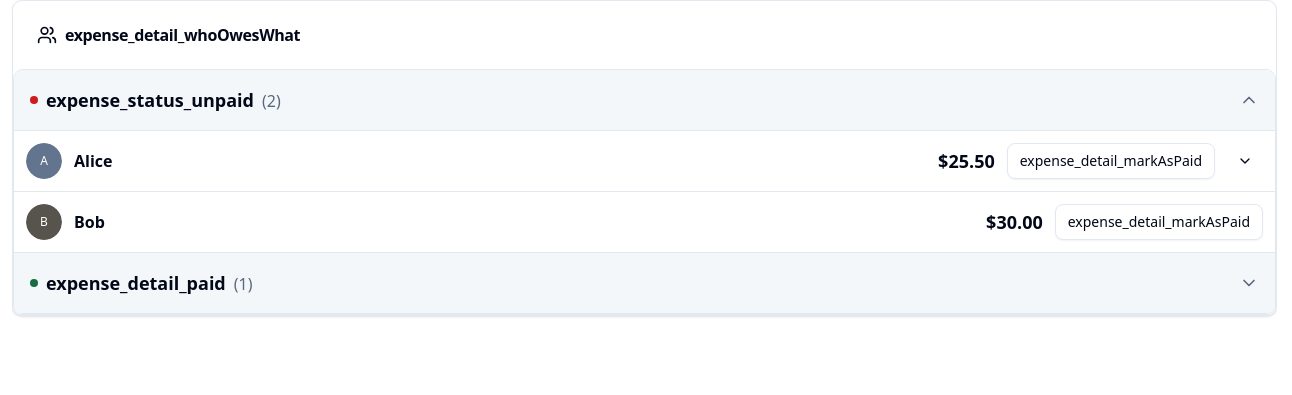
Test: ExpenseParticipants › shows paid participant when section expanded
Click the button "expense_detail_paid(1)": coordinates (136, 283) [14, 253, 1275, 313]
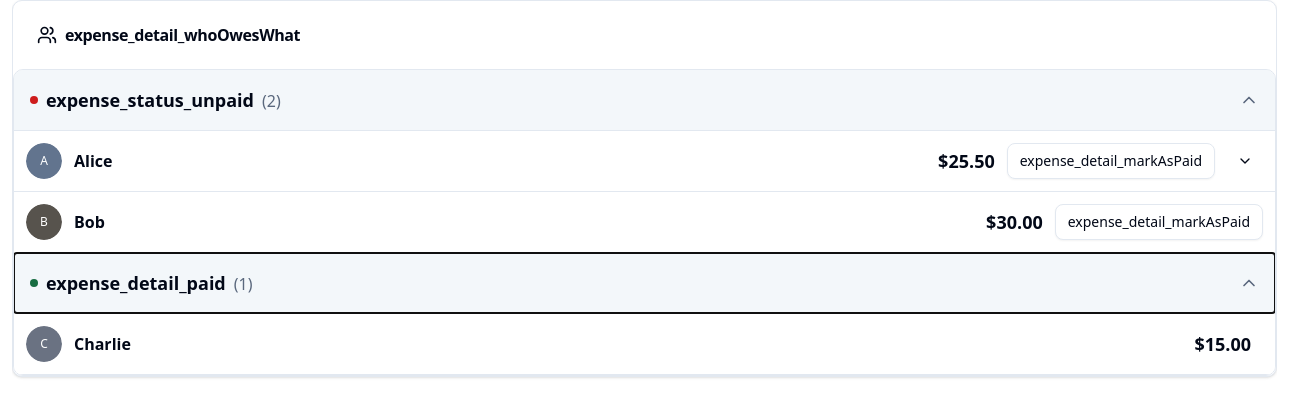
expect the text "Charlie" is shown: met, box [74, 333, 131, 355]
